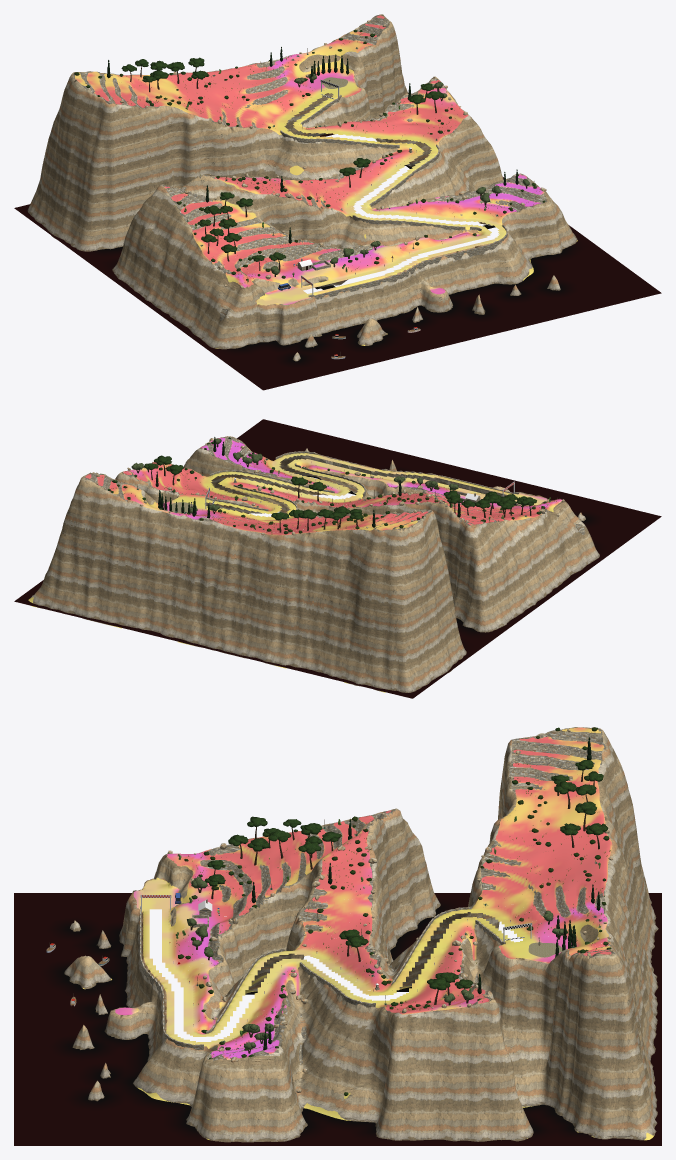
Rendered from serra.glb.
3 views of the same model, one above another, from view 1: azimuth 30°, elevation 25°; view 2: azimuth 150°, elevation 25°; view 3: azimuth 270°, elevation 25° (orthographic). The views are drawn at different scales.
Parts seen in each view (by area): view 1: Boden_fels, Boden_gelaende, Meer, Boden_mauer, Mauer_parapet_0; view 2: Boden_fels, Boden_gelaende, Meer, Boden_mauer, Mauer_parapet_0; view 3: Boden_fels, Boden_gelaende, Meer, Boden_mauer, Mauer_parapet_0.
Part boxes in pixels (x1,y1,x2,y2): Boden_fels: (27, 14, 577, 361); Boden_gelaende: (75, 15, 577, 348); Meer: (14, 133, 661, 390); Boden_mauer: (72, 15, 547, 320); Mauer_parapet_0: (308, 224, 507, 299); Boden_fels: (31, 436, 599, 692); Boden_gelaende: (28, 437, 561, 692); Meer: (14, 419, 661, 698); Boden_mauer: (83, 436, 585, 534); Mauer_parapet_0: (275, 451, 518, 495); Boden_fels: (64, 727, 658, 1142); Boden_gelaende: (83, 727, 653, 1140); Meer: (14, 893, 661, 1145); Boden_mauer: (200, 727, 614, 1078); Mauer_parapet_0: (140, 906, 203, 1049).
Size of what is drawn, in the model's own units: 194 by 72.1 by 210.
Materials: 16 (10 with a texture image).
